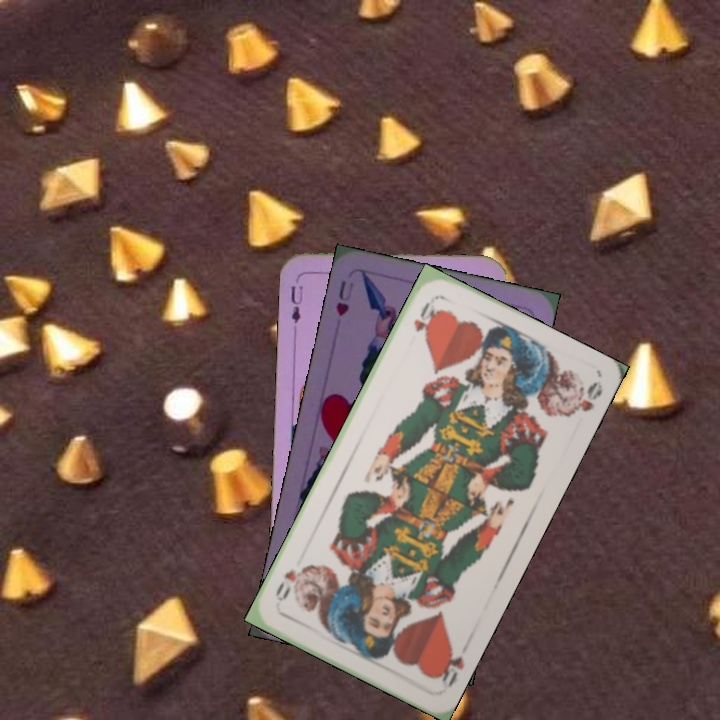EU: (286, 282, 306, 326)
HO: (431, 640, 467, 693), (409, 298, 438, 339)
HU: (332, 276, 357, 319)
